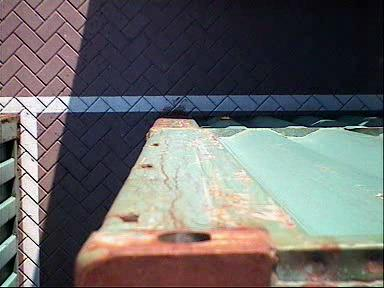groundmarker_2: (191, 35, 233, 93), (196, 221, 238, 278)
